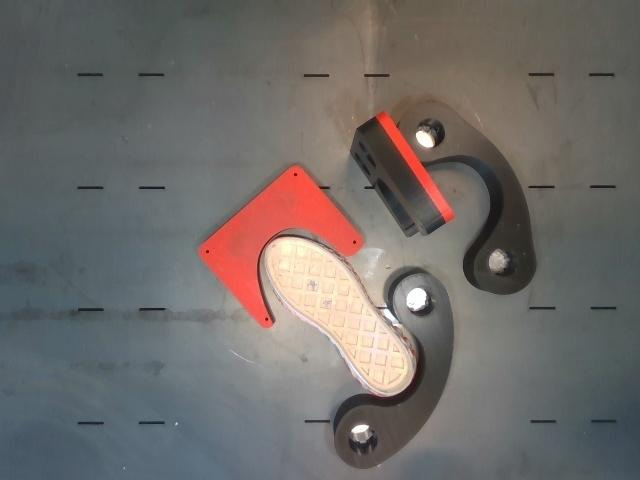shoes: (266, 237, 413, 393)
